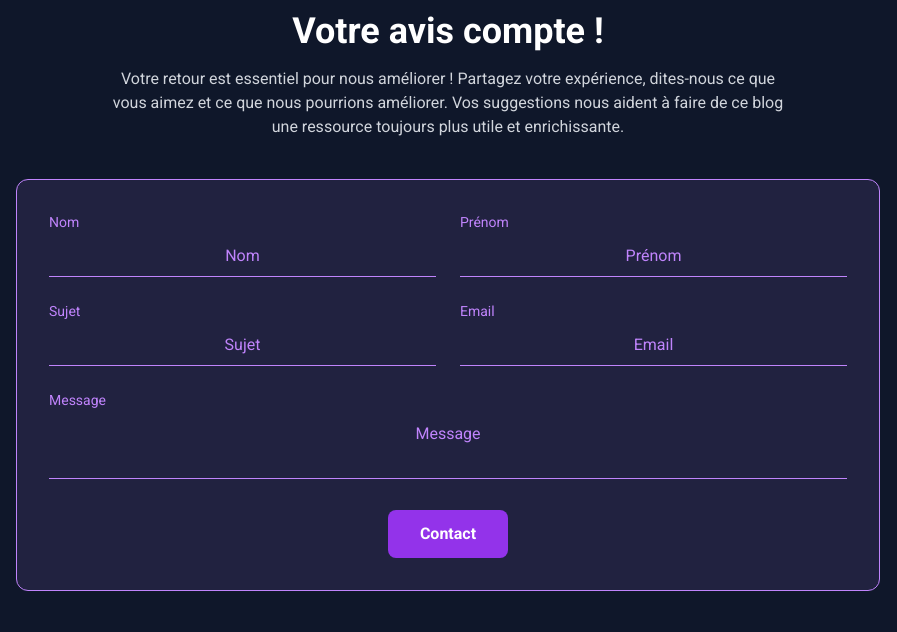
Test: Contact › affiche un message d'erreur si l'email est manquant
Step 1. Type "Doe" into the field labelled "Nom" → (242, 256), box [49, 236, 436, 277]
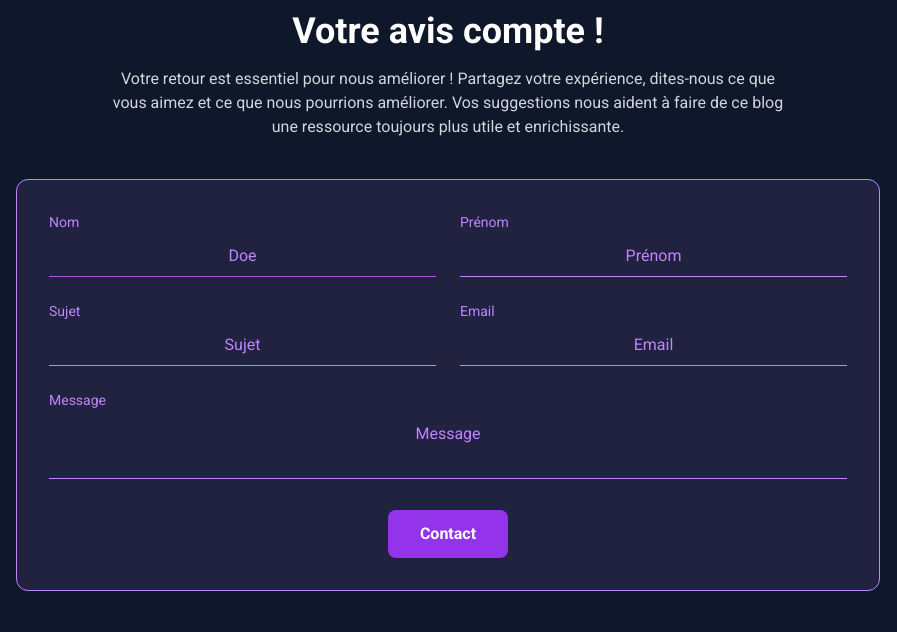
Step 2. Type "John" into the field labelled "Prénom" → (654, 256), box [460, 236, 847, 277]
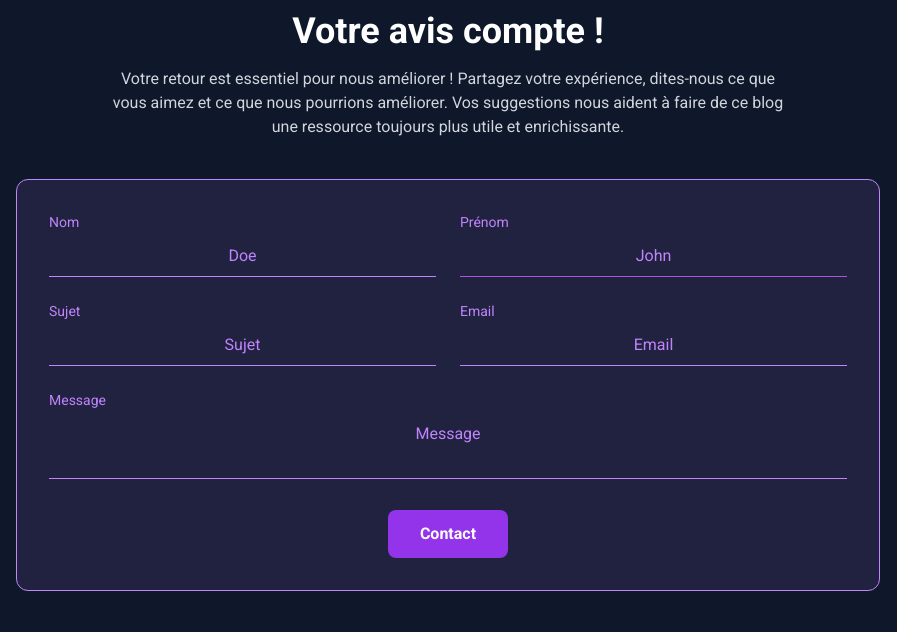
Step 3. Type "Bonjour !" into the text box labelled "Message" → (448, 446), box [49, 414, 847, 479]
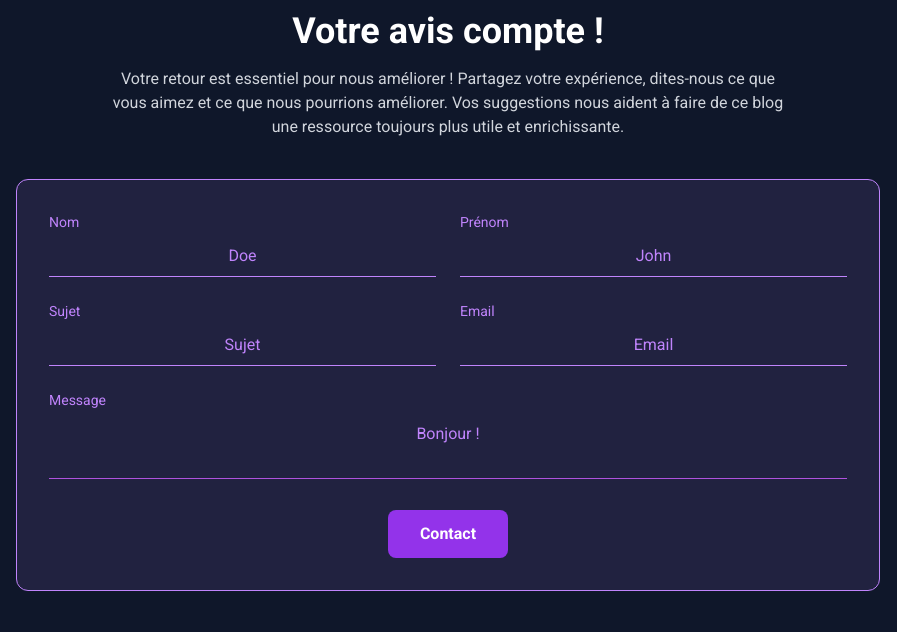
Step 4. Click the button "Contact" → (448, 534), box [388, 510, 508, 558]
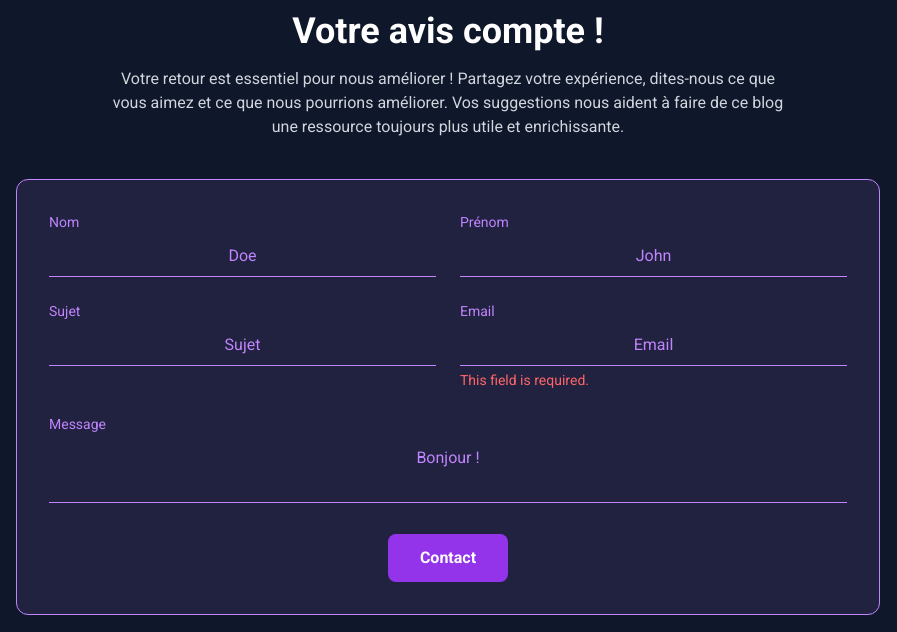
Expected: the text "This field is required." is shown, [460, 372, 589, 388]
